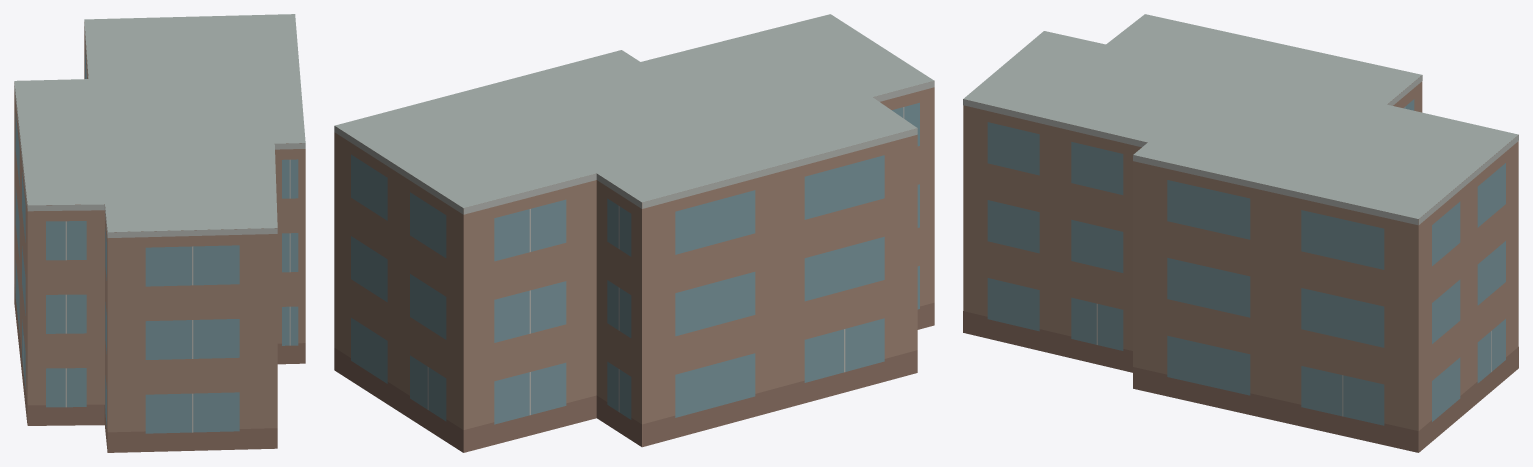
Rendered from survey-upis-32591328.glb.
The picture shows the model from 3 angles, left to right: view 1: azimuth 30°, elevation 25°; view 2: azimuth 150°, elevation 25°; view 3: azimuth 270°, elevation 25°; orthographic projection. The views are drawn at different scales.
Visible parts, largest first — view 1: survey-upis-32591328.tmp; view 2: survey-upis-32591328.tmp; view 3: survey-upis-32591328.tmp.
Boxes of the visible parts, x1,y1,x2,y2 form: survey-upis-32591328.tmp: (14,14,305,452); survey-upis-32591328.tmp: (334,14,934,452); survey-upis-32591328.tmp: (963,14,1518,452).
Bounding box in the file's own units: 17.23 × 9.15 × 19.72.
